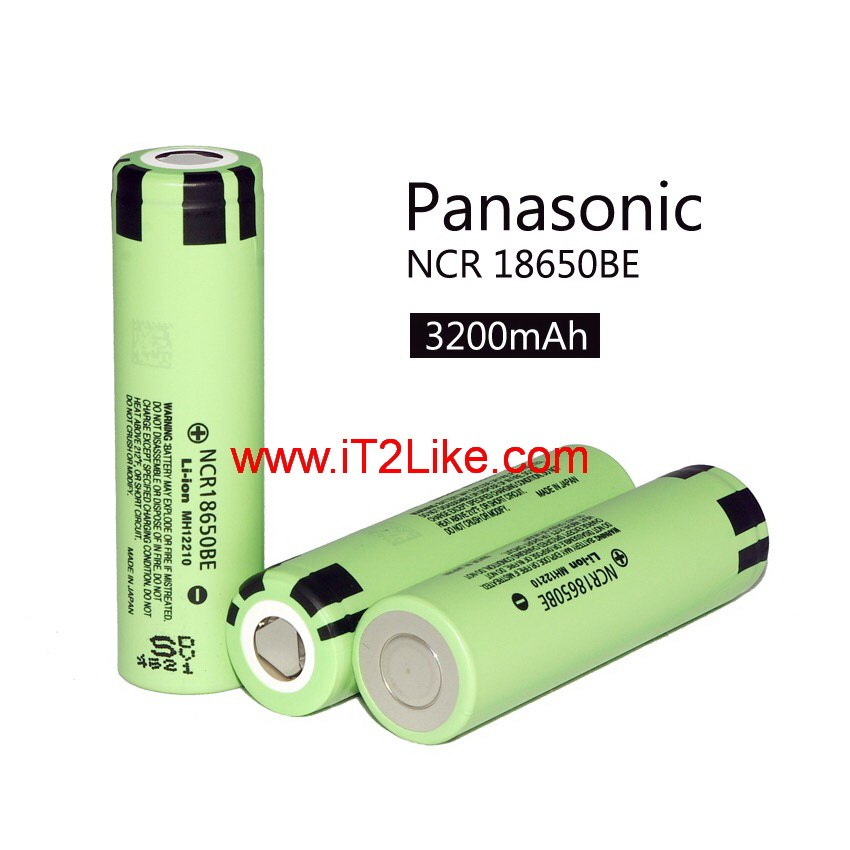Battery: (350, 457, 774, 749), (106, 138, 272, 698)
